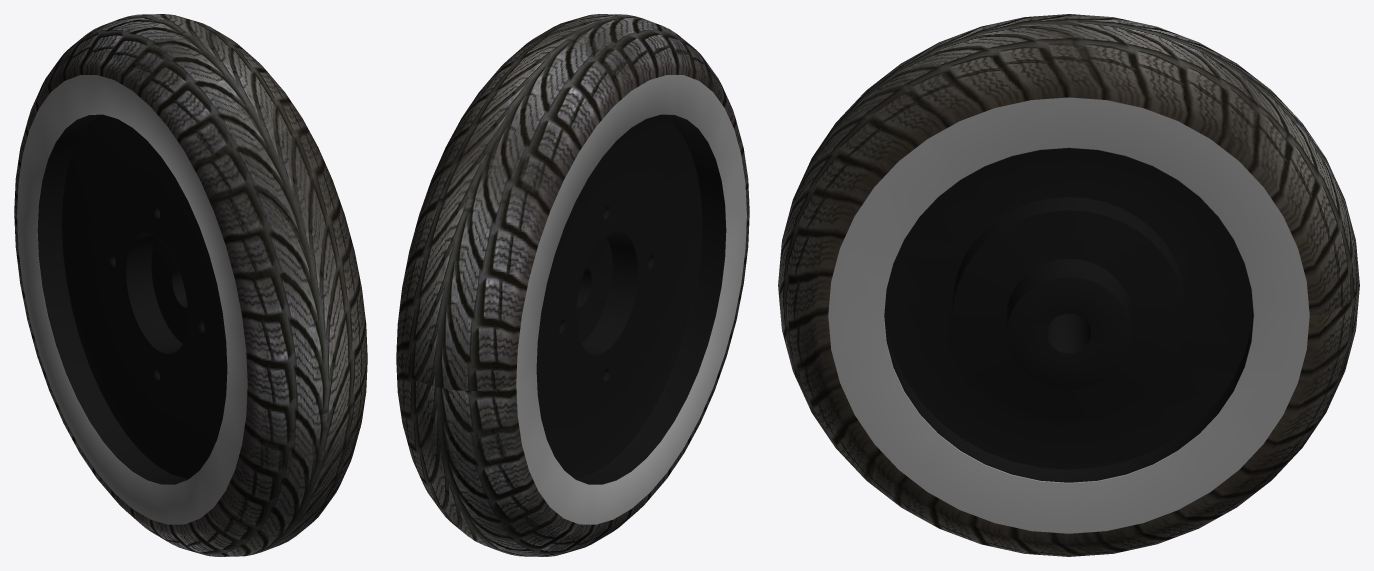
File: wheel.obj
The picture shows the model from 3 angles, left to right: view 1: azimuth 30°, elevation 25°; view 2: azimuth 150°, elevation 25°; view 3: azimuth 270°, elevation 25°; orthographic projection. The views are drawn at different scales.
Parts seen in each view (by area): view 1: pasted__polySurface1 group1, group1 pasted__polySurface5, group1 pasted__polySurface7; view 2: pasted__polySurface1 group1, group1 pasted__polySurface5, group1 pasted__polySurface7; view 3: group1 pasted__polySurface5, pasted__polySurface1 group1, group1 pasted__polySurface7.
Boxes of the visible parts, bbox=[...] form: pasted__polySurface1 group1: bbox=[14, 14, 367, 556]; group1 pasted__polySurface5: bbox=[37, 114, 227, 484]; group1 pasted__polySurface7: bbox=[17, 75, 247, 524]; pasted__polySurface1 group1: bbox=[396, 14, 749, 556]; group1 pasted__polySurface5: bbox=[536, 114, 726, 484]; group1 pasted__polySurface7: bbox=[516, 75, 746, 524]; group1 pasted__polySurface5: bbox=[884, 148, 1253, 482]; pasted__polySurface1 group1: bbox=[778, 14, 1359, 556]; group1 pasted__polySurface7: bbox=[828, 97, 1309, 533].
Bounding box in the file's own units: 5.95 × 18.73 × 18.73.
3 materials, 1 textured.
